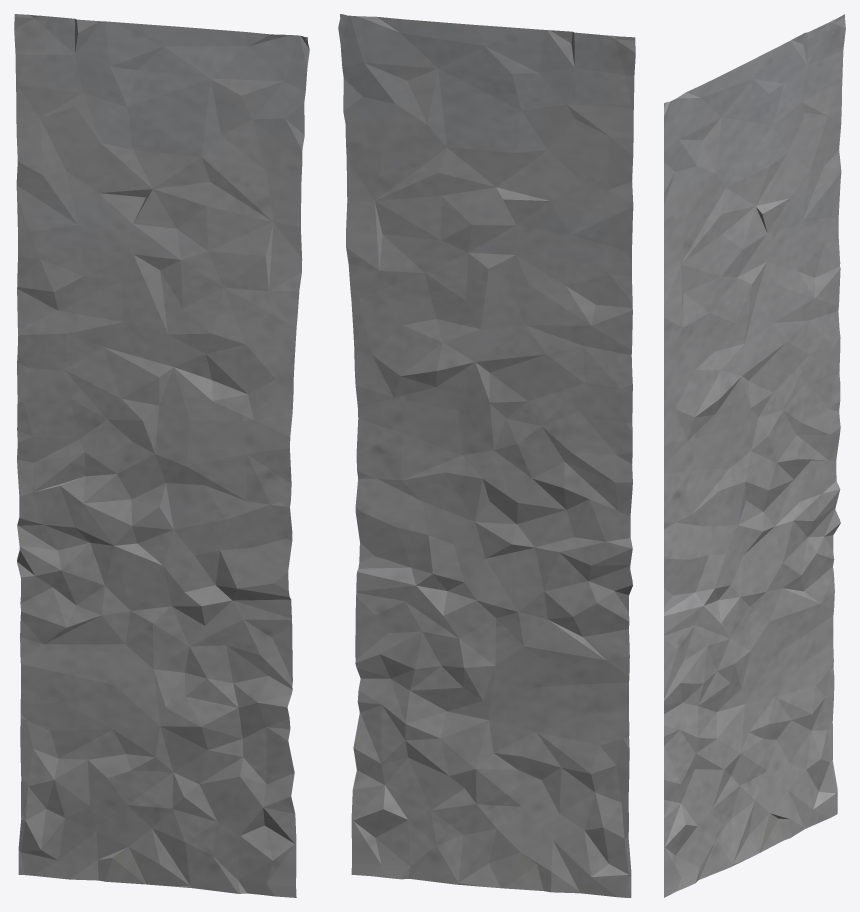
3 renders of one model, left to right at view 1: azimuth 30°, elevation 25°; view 2: azimuth 210°, elevation 25°; view 3: azimuth 270°, elevation 25°, orthographic. The views are drawn at different scales.
Bounding box in the file's own units: 0.2024 × 0.8374 × 0.1725.
Materials: 1 (1 with a texture image).
